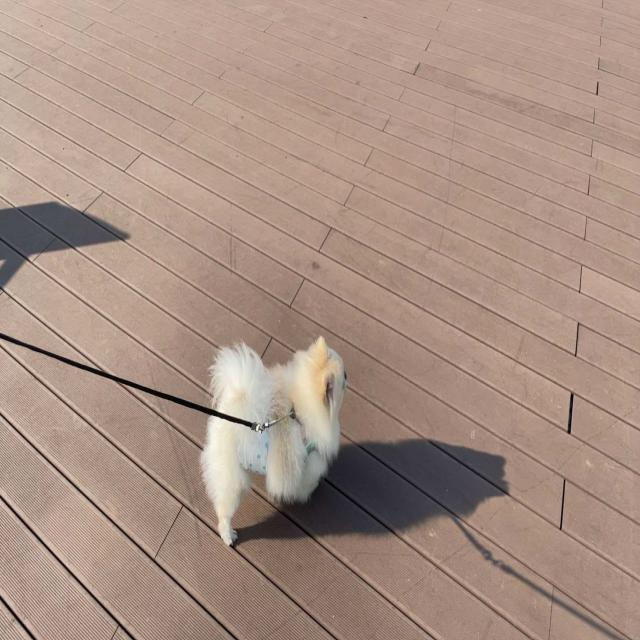Dog: (200, 334, 348, 549)
